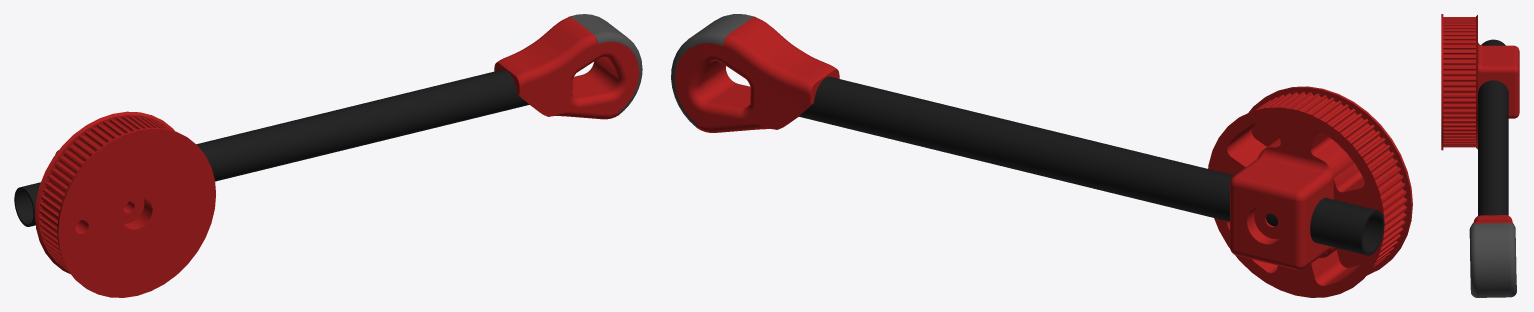
Rendered from leg1_link2.dae.
The picture shows the model from 3 angles, left to right: view 1: azimuth 30°, elevation 25°; view 2: azimuth 150°, elevation 25°; view 3: azimuth 270°, elevation 25°; orthographic projection. The views are drawn at different scales.
Visible parts, largest first — view 1: KneeFBXASC032Flexion-FBXASC032HTDFBXASC0323MFBXASC03272T, CFFBXASC032243.07mm, Shoe, Sole; view 2: KneeFBXASC032Flexion-FBXASC032HTDFBXASC0323MFBXASC03272T, CFFBXASC032243.07mm, Shoe, Sole; view 3: KneeFBXASC032Flexion-FBXASC032HTDFBXASC0323MFBXASC03272T, CFFBXASC032243.07mm, Sole, Shoe.
Part boxes in pixels (x1,y1,x2,y2): KneeFBXASC032Flexion-FBXASC032HTDFBXASC0323MFBXASC03272T: (35,111,215,297); CFFBXASC032243.07mm: (14,69,529,226); Shoe: (494,17,639,119); Sole: (568,14,642,114); KneeFBXASC032Flexion-FBXASC032HTDFBXASC0323MFBXASC03272T: (1208,86,1412,297); CFFBXASC032243.07mm: (799,76,1384,255); Shoe: (675,17,839,132); Sole: (671,14,755,126); KneeFBXASC032Flexion-FBXASC032HTDFBXASC0323MFBXASC03272T: (1441,14,1519,150); CFFBXASC032243.07mm: (1478,39,1508,215); Sole: (1469,223,1516,297); Shoe: (1470,215,1516,294).
Bounding box in the file's own units: 0.2747 × 0.0714 × 0.0407.
